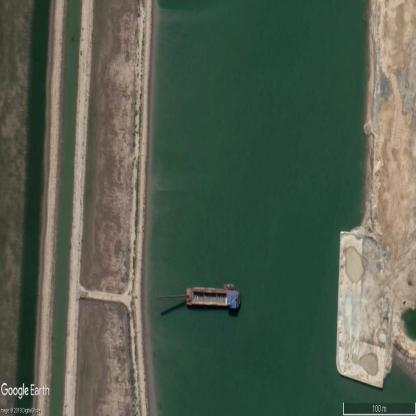ship: (186, 285, 242, 312)
